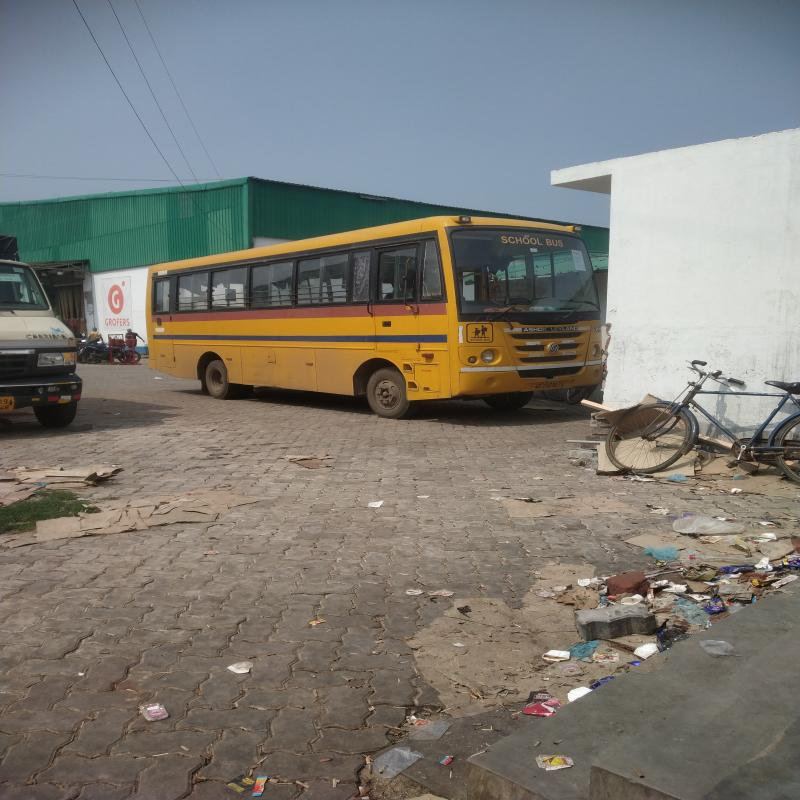bus: (140, 212, 610, 423)
